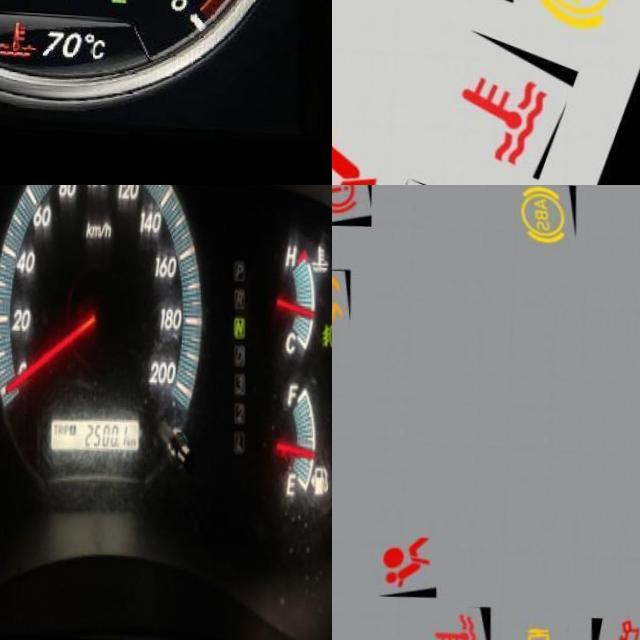Engine cooling system: (0, 14, 42, 57)
